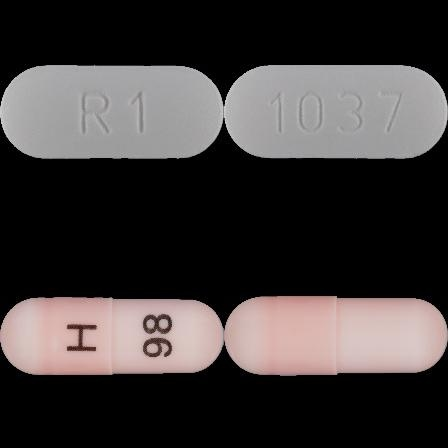33261-849: (0, 0, 224, 224)
